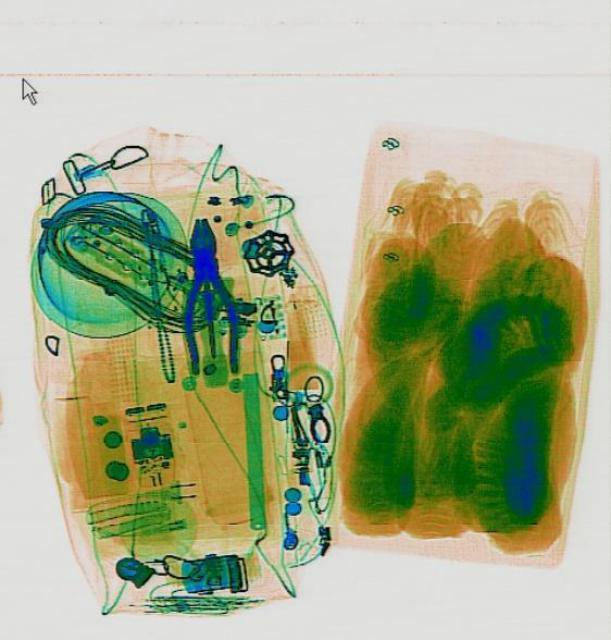Pliers: (172, 213, 241, 374)
